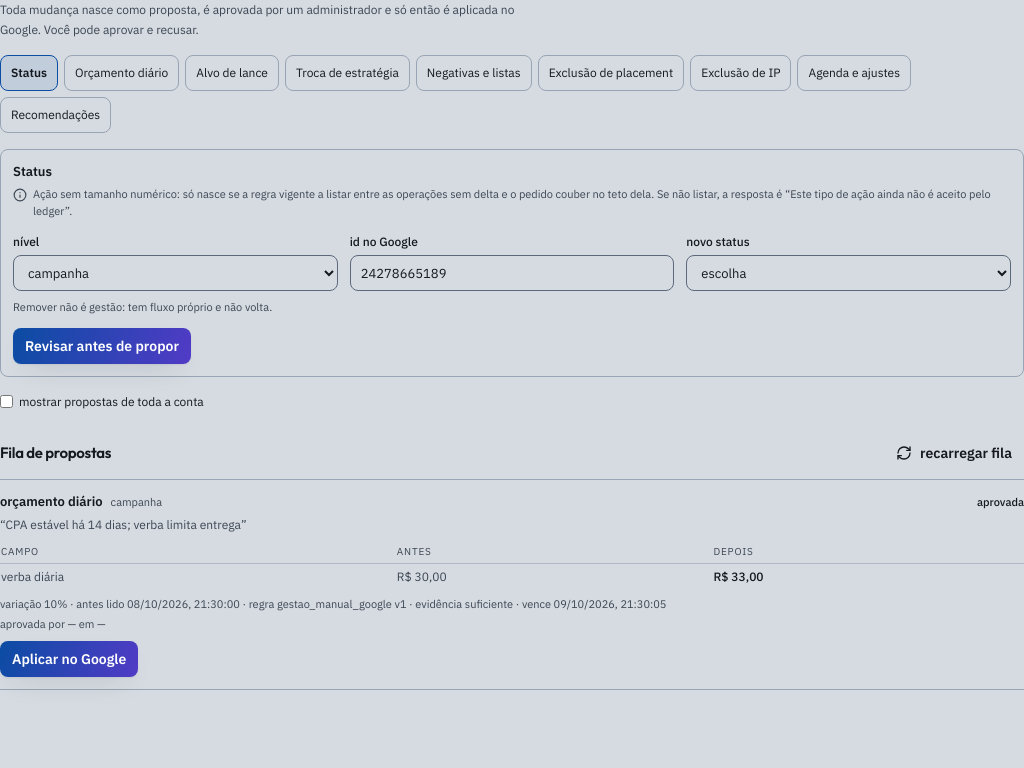
a fila: diff, decisão e desfecho › aplicar mostra o desfecho; 409 antes_divergiu vira frase
Click the button "Aplicar no Google" at (69, 659), box [0,641,138,677]
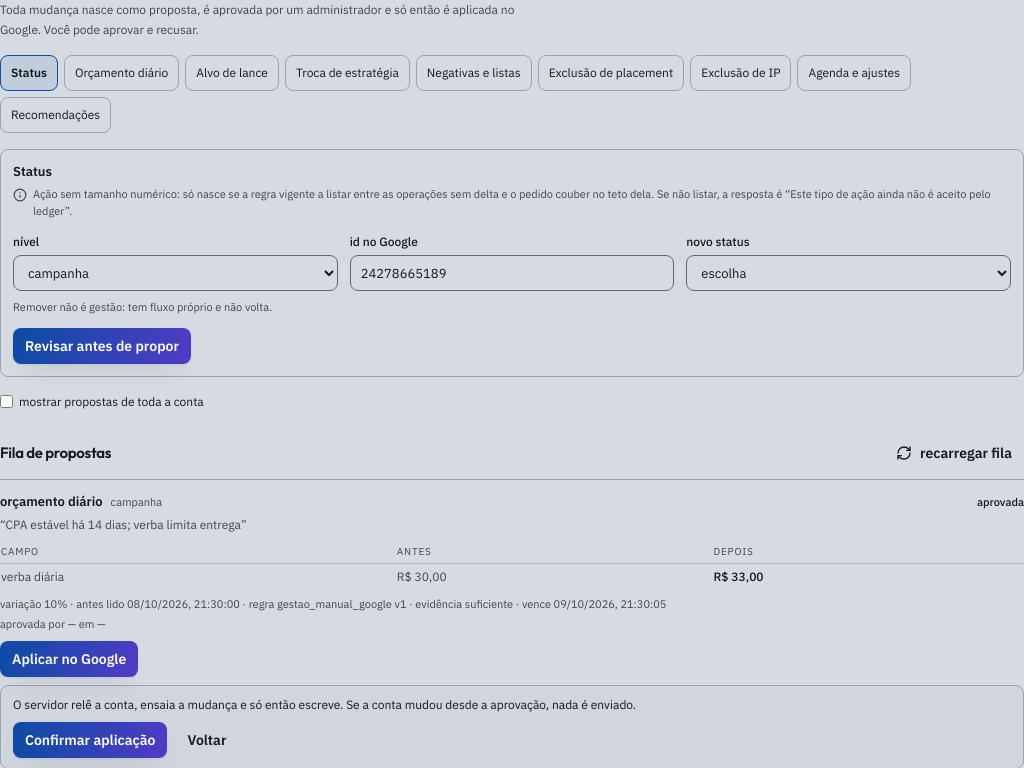
Click the button "Confirmar aplicação" at (90, 740), box [13,722,168,758]
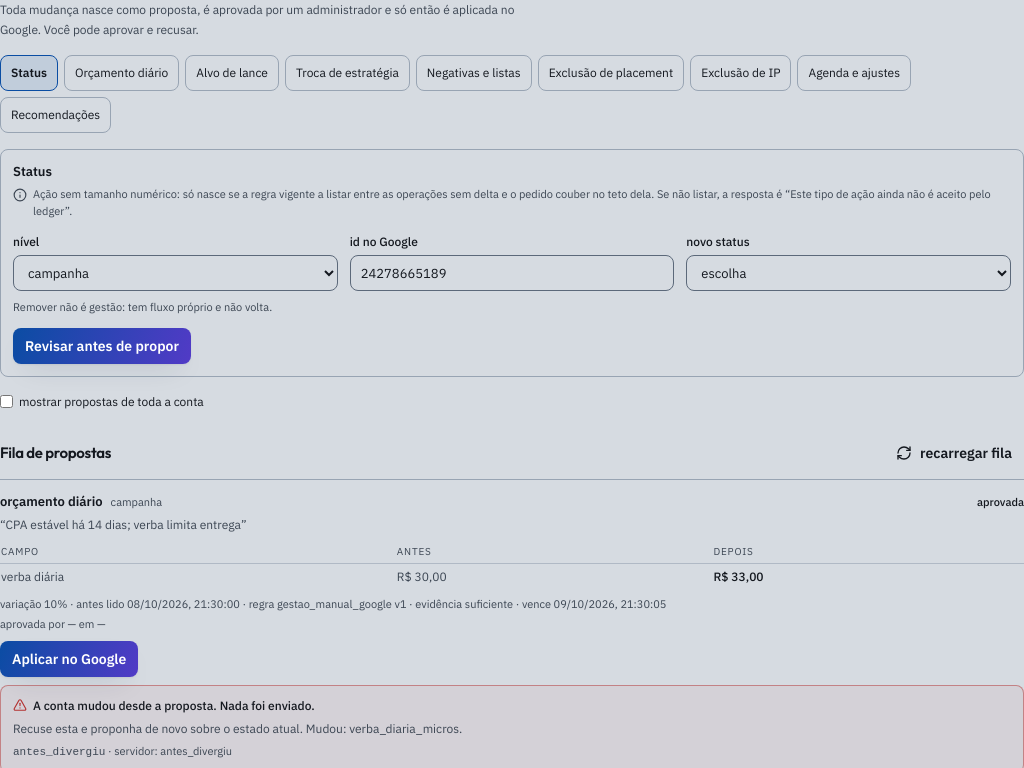
expect the text "A conta mudou desde a proposta. Nada foi enviado." is shown: met, box [13,698,315,713]
expect the text "Mudou: verba_diaria_micros" is shown: met, box [13,721,462,736]
Click the button "Aplicar no Google" at (69, 659), box [0,641,138,677]
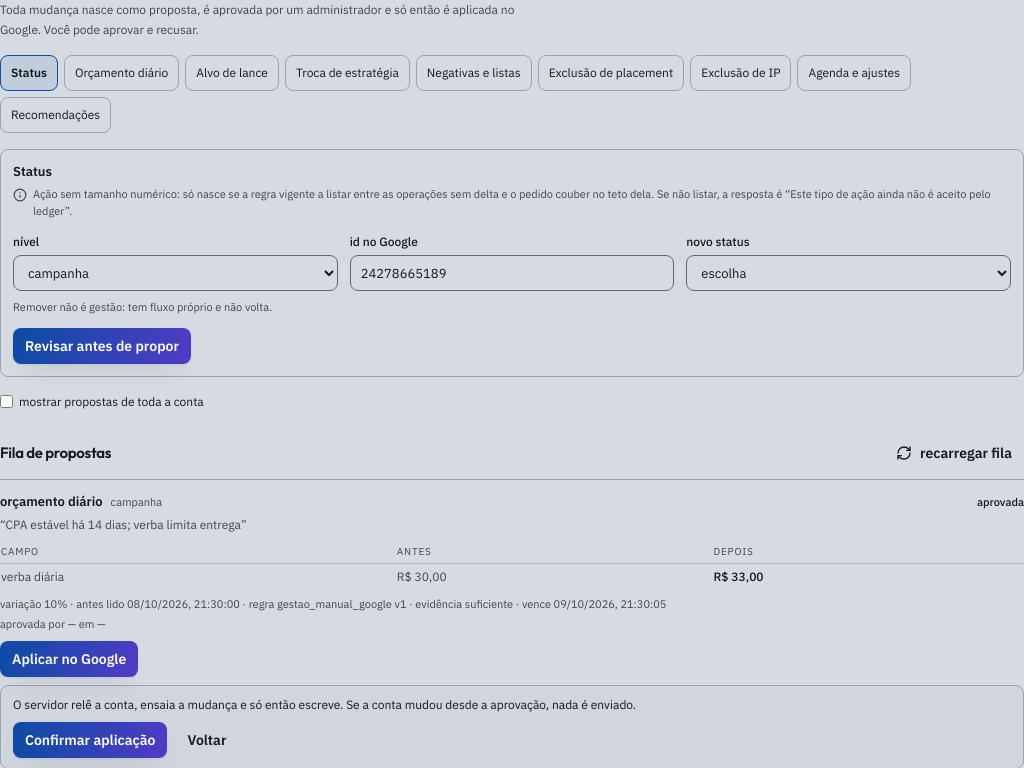
Click the button "Confirmar aplicação" at (90, 740), box [13,722,168,758]
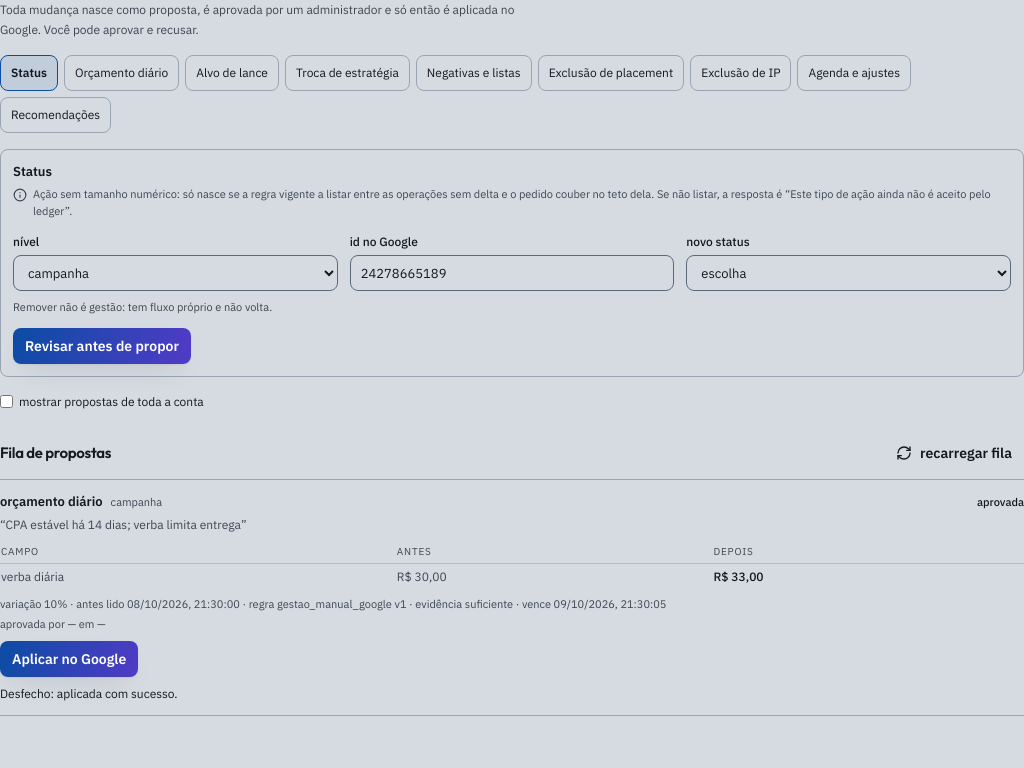
expect the text "Desfecho: aplicada com sucesso." is shown: met, box [0,686,178,701]
